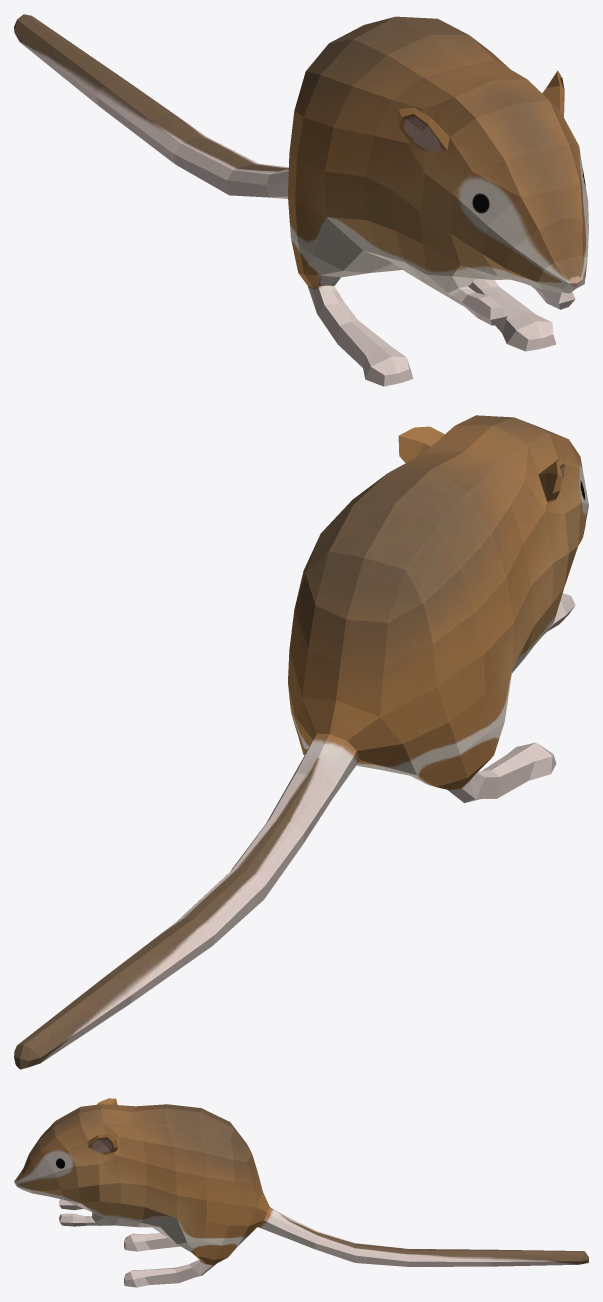
File: 1sa5fbvBAWu.glb
3 views of the same model, one above another, from view 1: azimuth 30°, elevation 25°; view 2: azimuth 150°, elevation 25°; view 3: azimuth 270°, elevation 25° (orthographic). The views are drawn at different scales.
Parts seen in each view (by area): view 1: KangarooRats_Mesh; view 2: KangarooRats_Mesh; view 3: KangarooRats_Mesh.
Part boxes in pixels (x1,y1,x2,y2): KangarooRats_Mesh: (14,14,588,386); KangarooRats_Mesh: (14,415,588,1069); KangarooRats_Mesh: (14,1098,588,1287).
Bounding box in the file's own units: 0.6651 × 1 × 3.35.
1 material, 1 textured.
